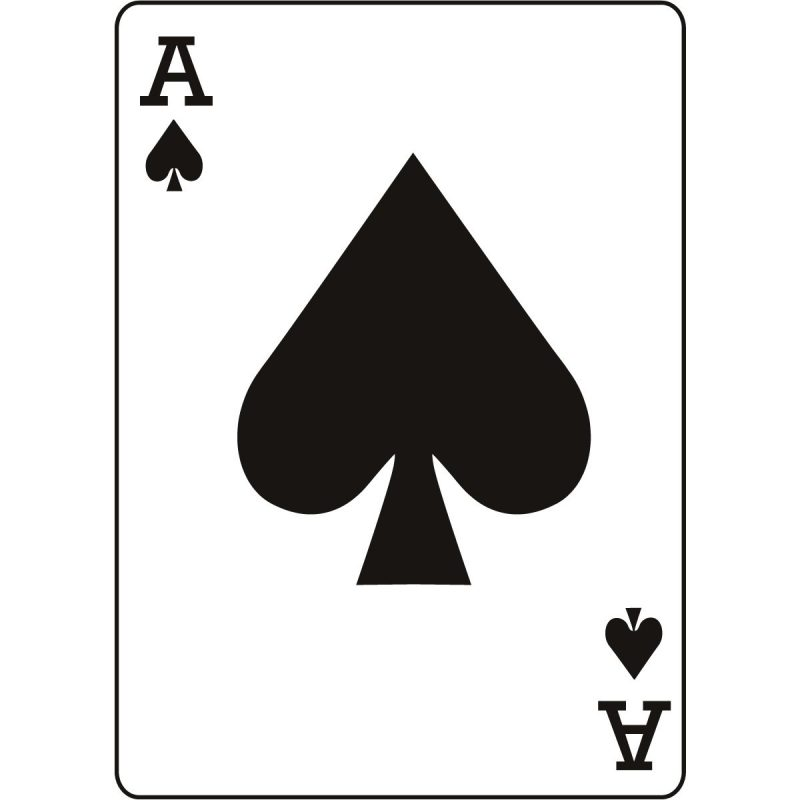ace of spades: (118, 1, 689, 793)
